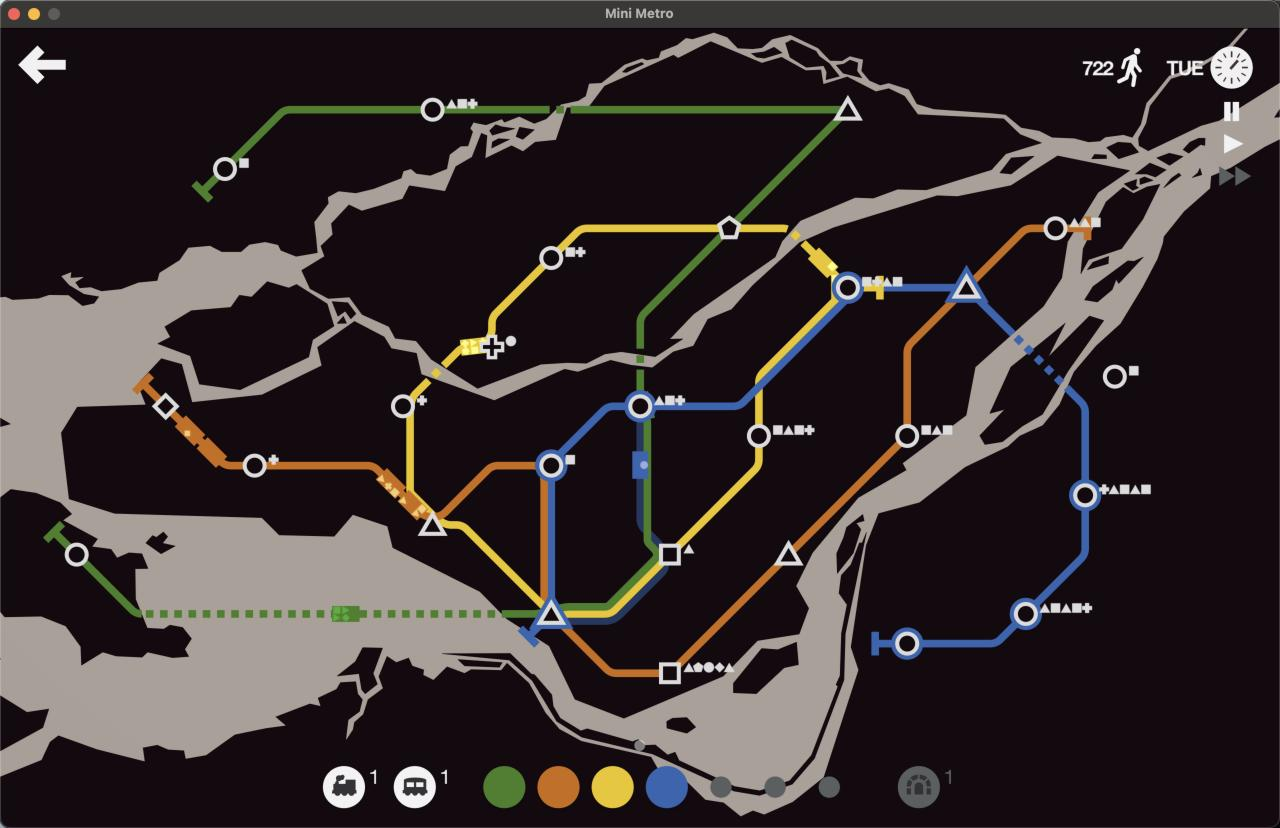CIRCLE: (831, 270, 864, 304), (1009, 597, 1042, 631), (890, 626, 923, 660), (535, 449, 567, 482), (1069, 479, 1101, 511), (625, 389, 656, 422), (1102, 364, 1129, 390), (894, 423, 921, 449), (1043, 215, 1069, 241), (746, 423, 772, 449), (213, 155, 238, 182), (242, 452, 267, 479), (64, 542, 90, 567), (390, 393, 415, 419), (420, 96, 445, 122), (539, 245, 563, 270)
CROSS: (480, 335, 506, 360)
GEM: (151, 392, 180, 420)
PENTAGON: (717, 215, 742, 240)
SQUARE: (658, 542, 682, 566), (658, 661, 682, 685)
TRIANGLE: (947, 265, 987, 304), (533, 596, 570, 631), (774, 539, 804, 567), (834, 94, 863, 122), (418, 512, 447, 538)
